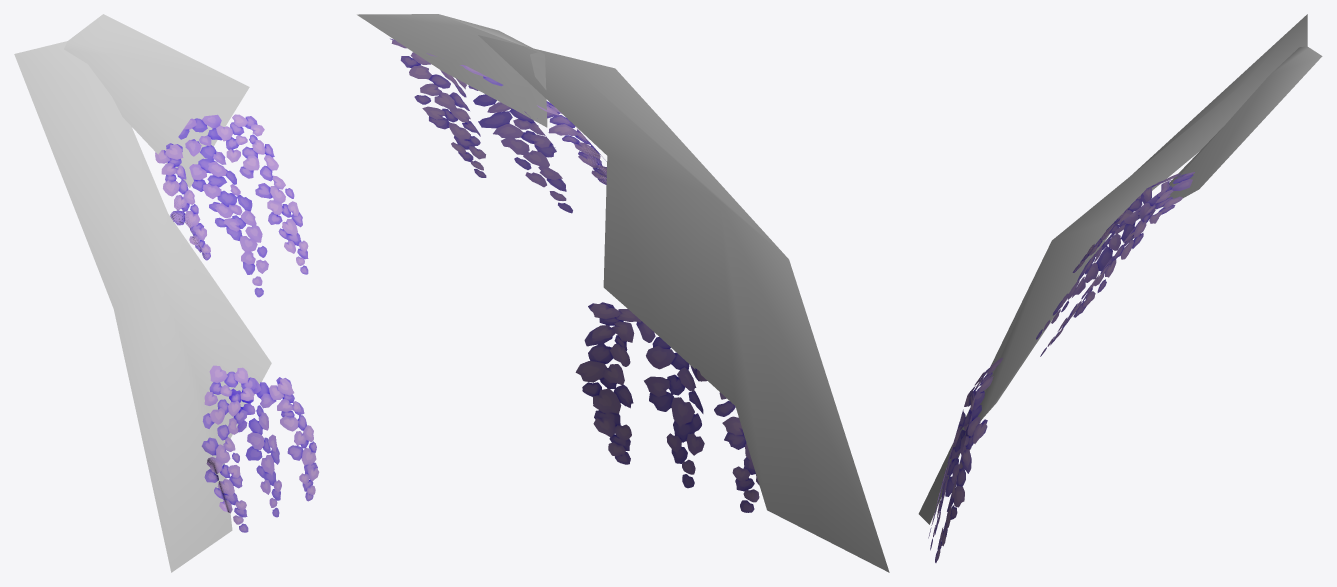
The model's file is SM_Env_Vines_Preset_Roof_Convex_05.fbx.
The picture shows the model from 3 angles, left to right: view 1: azimuth 30°, elevation 25°; view 2: azimuth 150°, elevation 25°; view 3: azimuth 270°, elevation 25°; orthographic projection. The views are drawn at different scales.
Visible parts, largest first — view 1: SM_Env_Vines_Preset_Roof_Convex_05; view 2: SM_Env_Vines_Preset_Roof_Convex_05; view 3: SM_Env_Vines_Preset_Roof_Convex_05.
Boxes of the visible parts, x1,y1,x2,y2 form: SM_Env_Vines_Preset_Roof_Convex_05: (14, 14, 319, 572); SM_Env_Vines_Preset_Roof_Convex_05: (357, 14, 889, 572); SM_Env_Vines_Preset_Roof_Convex_05: (918, 14, 1322, 562).
Size of the model in its own units: 126 by 249 by 177.
